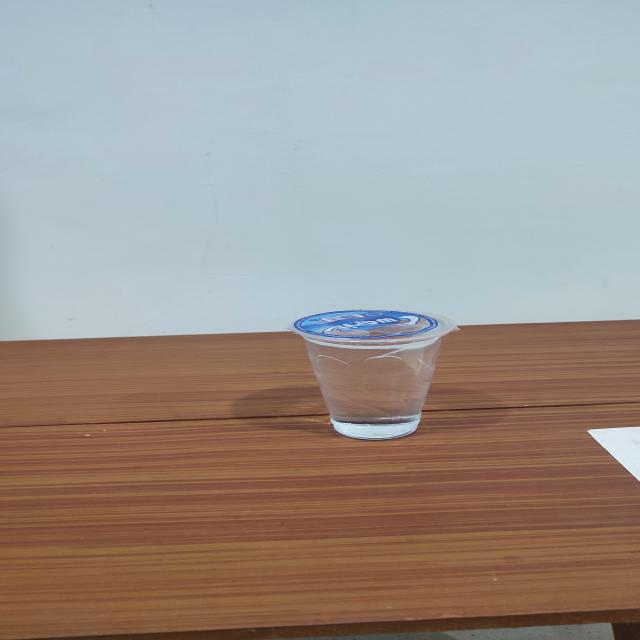air gelas: (281, 296, 466, 444)
